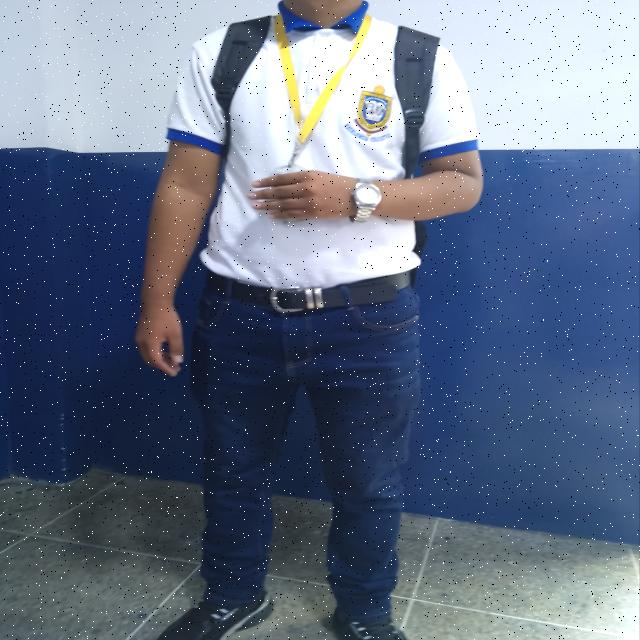pantalon_oscuro: (189, 293, 424, 623)
uniforme_superior: (162, 0, 480, 290)
